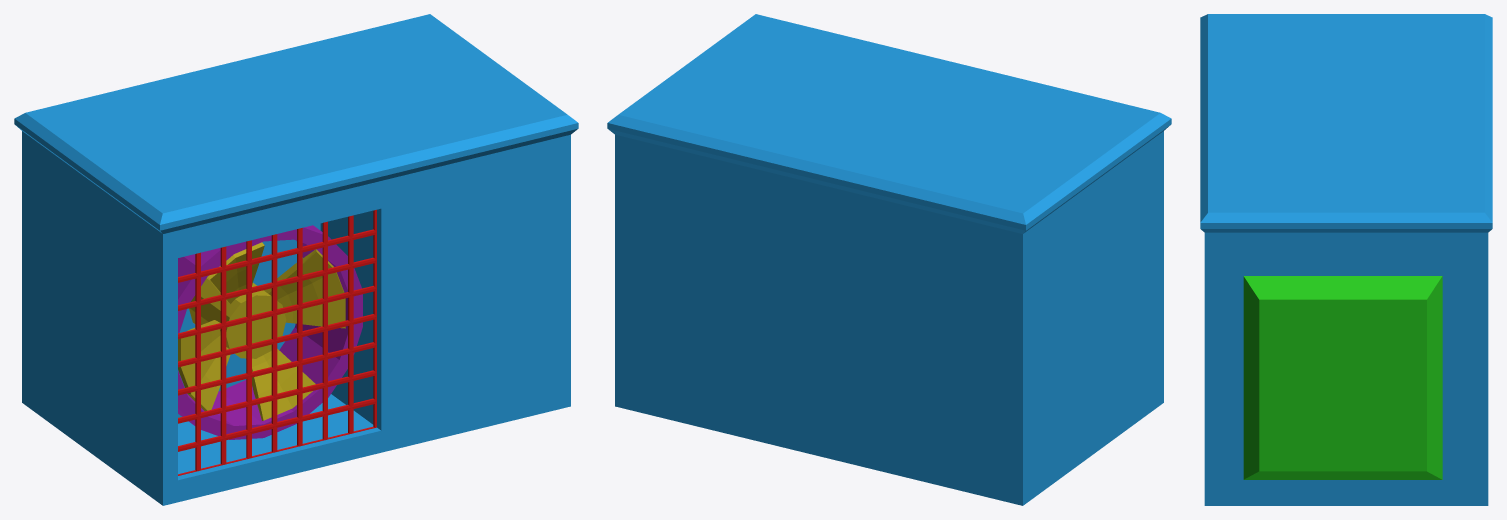
Rendered from Ventilador_low.fbx.
The picture shows the model from 3 angles, left to right: view 1: azimuth 30°, elevation 25°; view 2: azimuth 150°, elevation 25°; view 3: azimuth 270°, elevation 25°; orthographic projection.
Parts seen in each view (by area): view 1: Ventilador_low; view 2: Ventilador_low; view 3: Ventilador_low.
Part boxes in pixels (bbox=[...]): Ventilador_low: bbox=[14, 14, 578, 505]; Ventilador_low: bbox=[607, 14, 1171, 505]; Ventilador_low: bbox=[1200, 14, 1492, 505].
Bounding box in the file's own units: 55.91 × 36.24 × 32.86.
